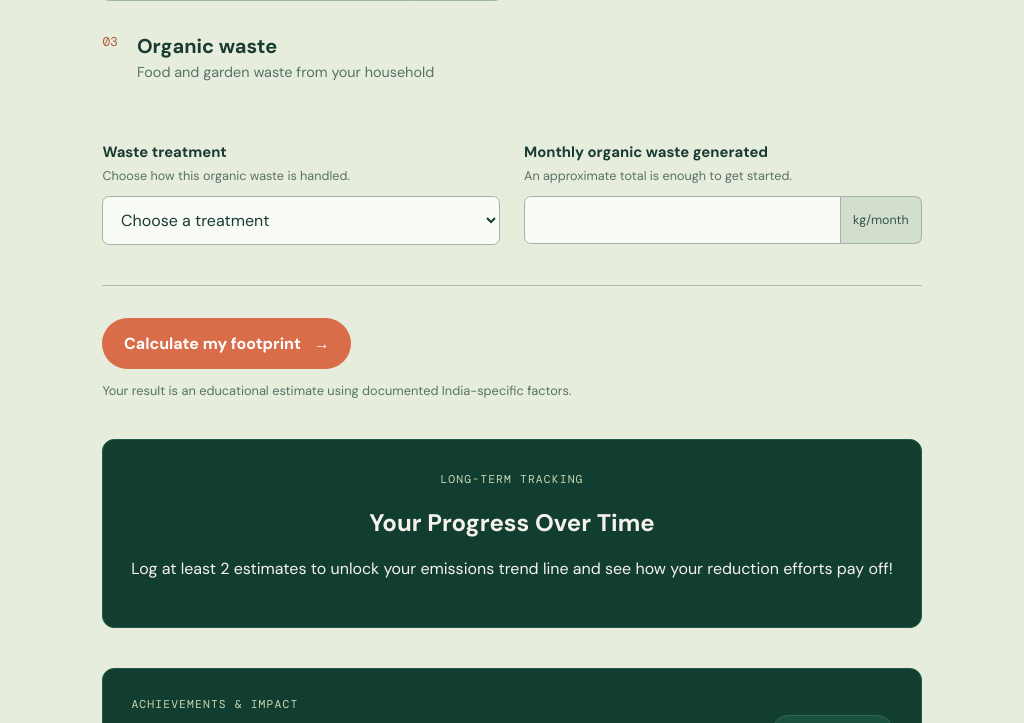
it: CalculatorForm › shows accessible errors for empty submission
The image size is (1024, 723).
(page scrolled)
Step 1. Click the button "Calculate my footprint →" → (227,344), box [102,318,351,370]
(page scrolled)
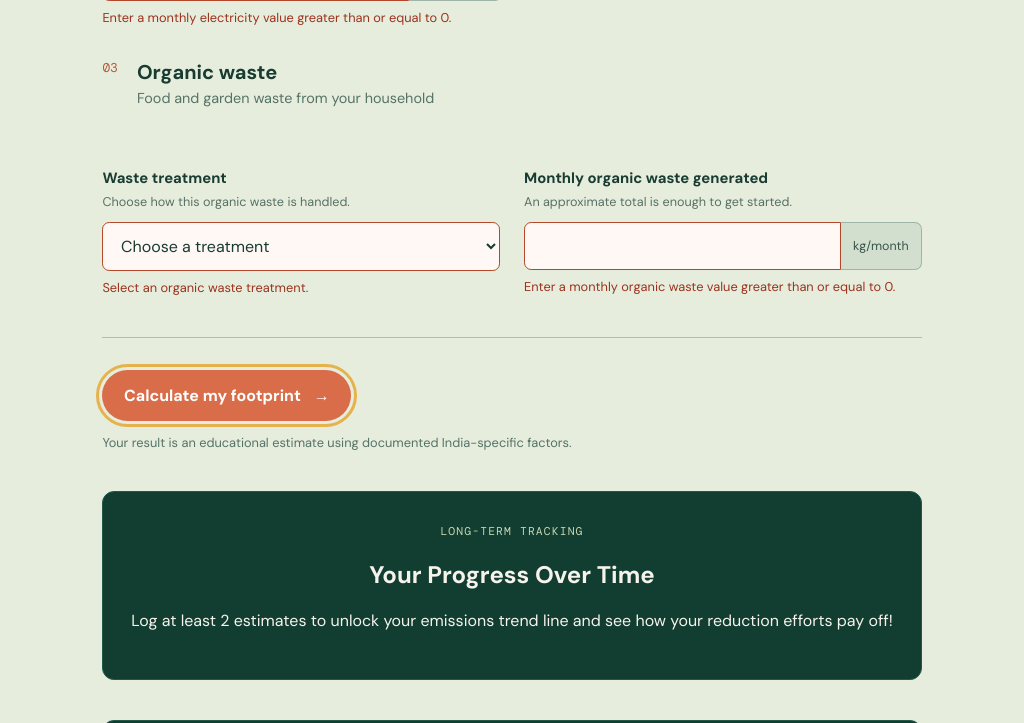
Now the text "Enter a monthly electricity value greater than or equal to 0." is shown, box [102,9,502,27]
